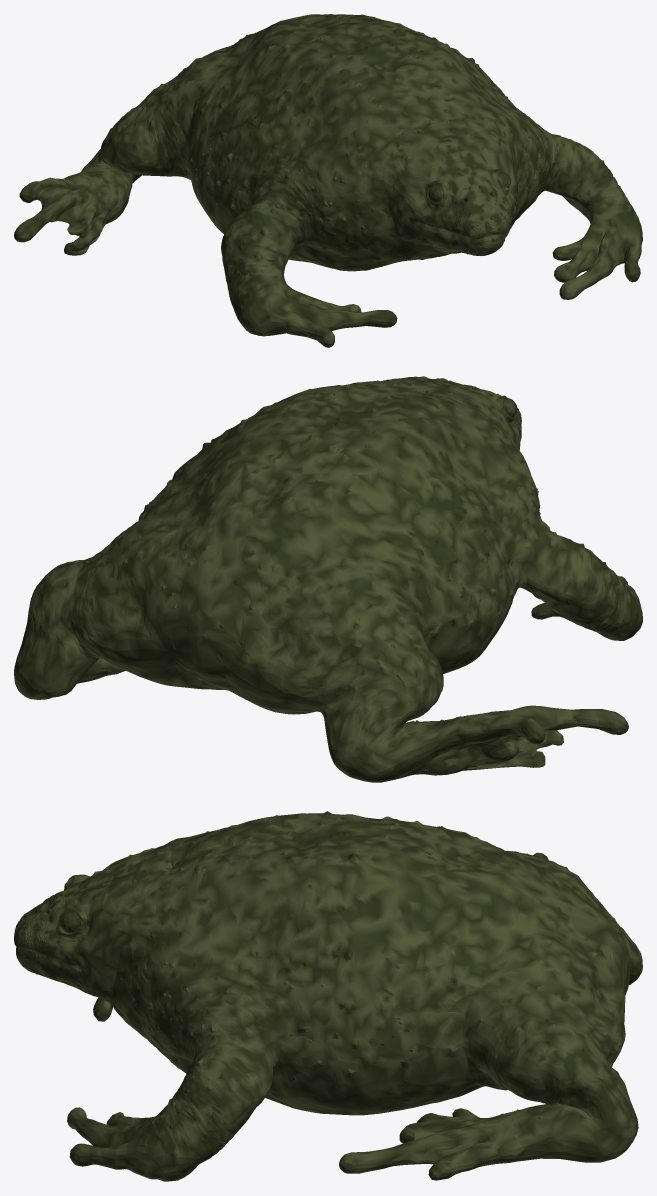
The model's file is animal_toad_v1.glb.
The picture shows the model from 3 angles, top to bottom: view 1: azimuth 30°, elevation 25°; view 2: azimuth 150°, elevation 25°; view 3: azimuth 270°, elevation 25°; orthographic projection. The views are drawn at different scales.
Visible parts, largest first — view 1: mexican-burrowing-toad-1-1; view 2: mexican-burrowing-toad-1-1; view 3: mexican-burrowing-toad-1-1.
Part boxes in pixels (left/top/right/bottom): mexican-burrowing-toad-1-1: left=14, top=14, right=642, bottom=347; mexican-burrowing-toad-1-1: left=14, top=376, right=642, bottom=782; mexican-burrowing-toad-1-1: left=14, top=811, right=642, bottom=1181.
Bounding box in the file's own units: 89.11 × 33.43 × 79.87.
